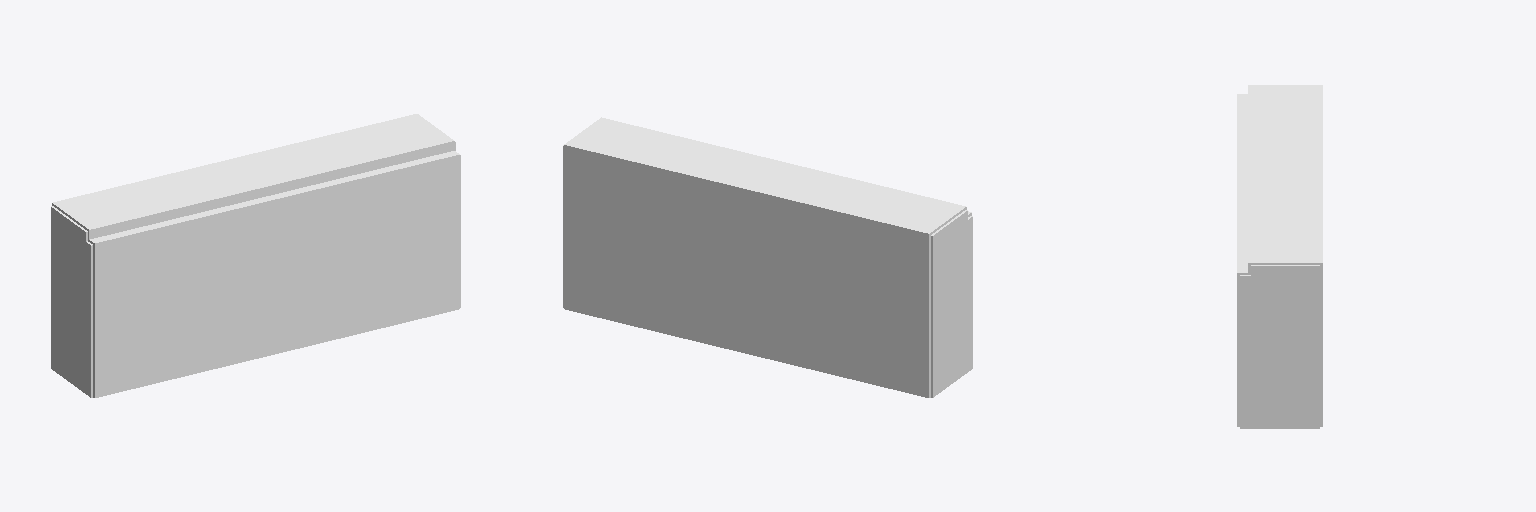
Rendered from border2-1-lod1.obj.
The picture shows the model from 3 angles: view 1: azimuth 30°, elevation 25°; view 2: azimuth 150°, elevation 25°; view 3: azimuth 270°, elevation 25°; orthographic projection.
Visible parts, largest first — view 1: lod1; view 2: lod1; view 3: lod1.
Part boxes in pixels (x1,y1,x2,y2): lod1: (51, 114, 460, 397); lod1: (563, 117, 972, 397); lod1: (1237, 85, 1322, 428).
Size of the model in its own units: 16 by 6.8 by 3.2.